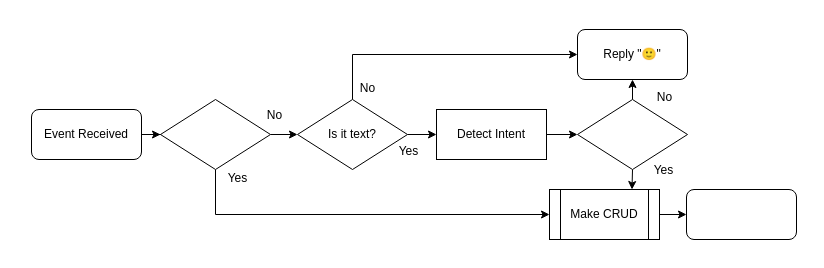
This 824x268 diagram has some shape labels left out. The centre of each missing label's shape, as x and y in pixels:
Is it a postback?: the point at 215,134
Is it a valid action?: the point at 632,134
Reply OK: the point at 741,214
